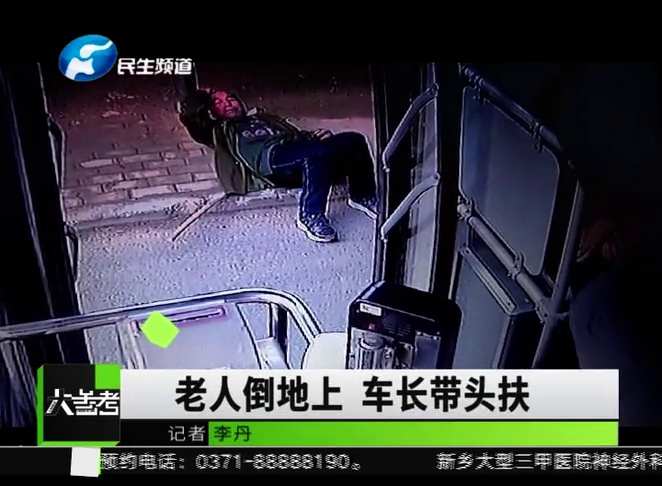fall: (177, 84, 377, 236)
